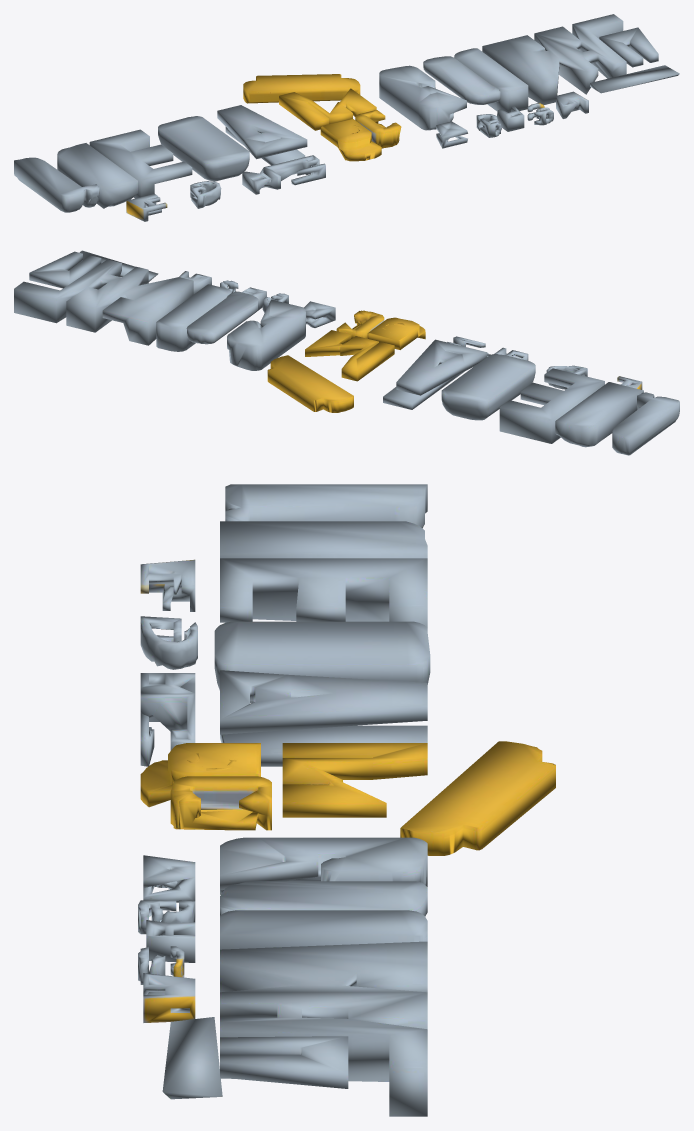
File: selected.glb
3 views of the same model, one above another, from view 1: azimuth 30°, elevation 25°; view 2: azimuth 150°, elevation 25°; view 3: azimuth 270°, elevation 25° (orthographic). The views are drawn at different scales.
Visible parts, largest first — view 1: tripo_node_82bf64e6-157f-4e27-95ee-16f825e475d5; view 2: tripo_node_82bf64e6-157f-4e27-95ee-16f825e475d5; view 3: tripo_node_82bf64e6-157f-4e27-95ee-16f825e475d5.
Part boxes in pixels (bbox=[...]): tripo_node_82bf64e6-157f-4e27-95ee-16f825e475d5: bbox=[14, 14, 679, 221]; tripo_node_82bf64e6-157f-4e27-95ee-16f825e475d5: bbox=[14, 250, 679, 455]; tripo_node_82bf64e6-157f-4e27-95ee-16f825e475d5: bbox=[138, 484, 555, 1116].
Bounding box in the file's own units: 0.998 × 0.0371 × 0.2988.
Materials: 1 (1 with a texture image).
